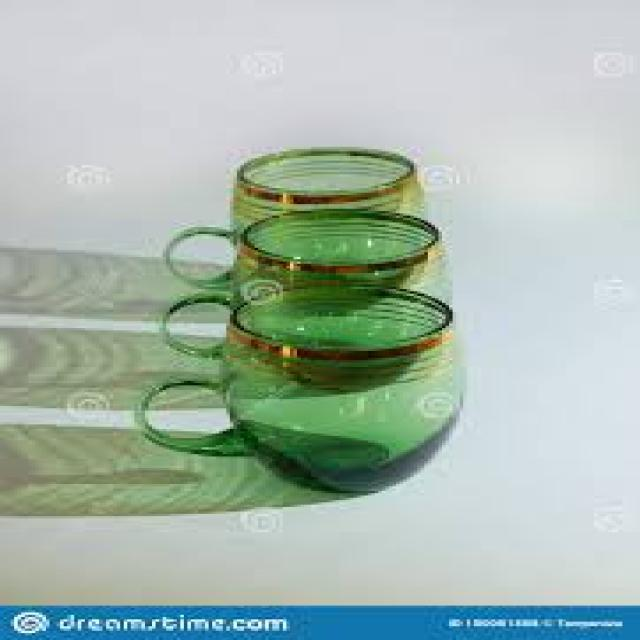glass: (134, 280, 460, 491), (156, 207, 442, 360), (163, 147, 424, 284)
